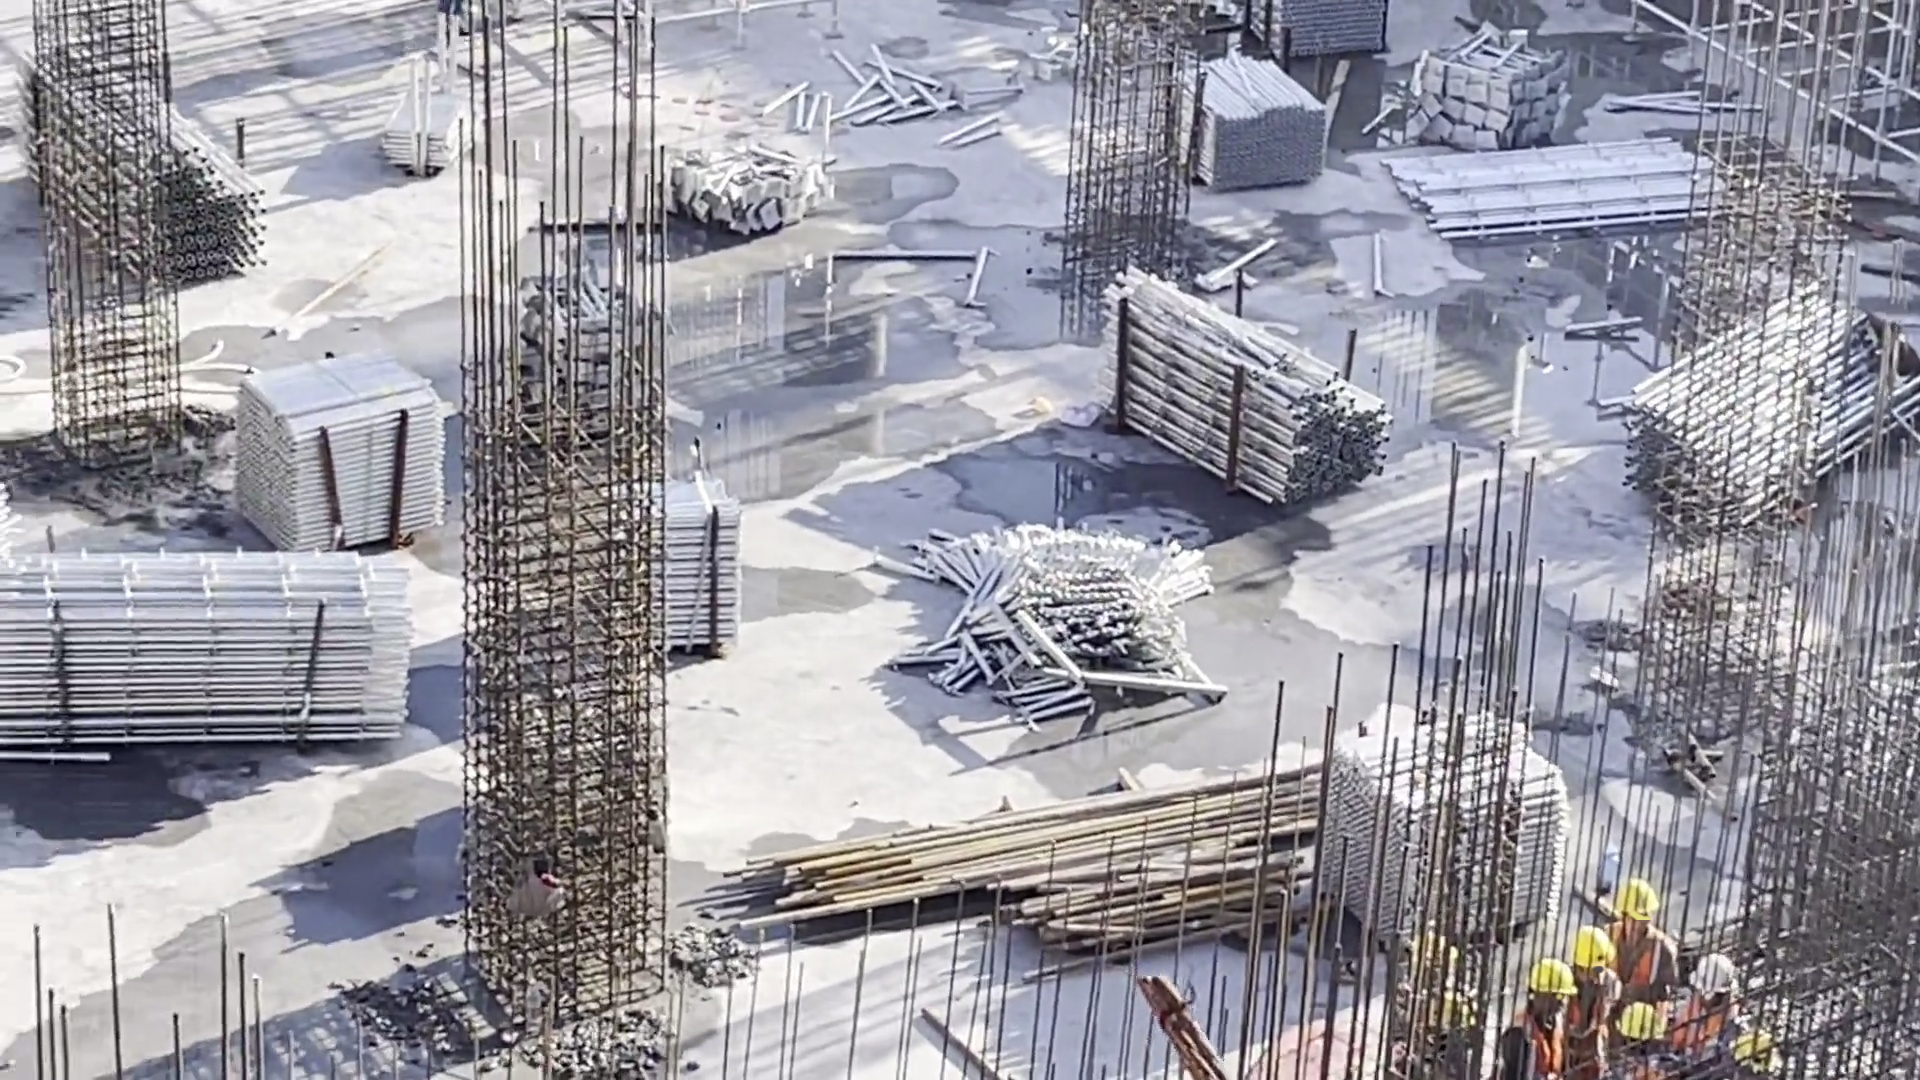helmet: (1685, 949, 1742, 1004), (1620, 877, 1657, 933), (1615, 1004, 1670, 1042), (1569, 932, 1615, 968), (1527, 962, 1579, 993)
person: (1589, 874, 1681, 1005), (1565, 909, 1625, 1080), (1492, 949, 1567, 1080), (1666, 945, 1738, 1063), (1600, 1003, 1670, 1080)
scaffold: (1, 576, 415, 745), (1128, 298, 1366, 513), (1657, 288, 1879, 517), (1, 63, 241, 271), (1316, 733, 1535, 949), (239, 361, 443, 539), (1420, 147, 1713, 251), (958, 532, 1150, 688), (592, 491, 749, 644), (1157, 61, 1333, 197), (1252, 1, 1409, 69), (385, 86, 458, 173)
vest: (1509, 1020, 1570, 1079), (1614, 941, 1670, 998), (1683, 1004, 1730, 1054), (1569, 977, 1606, 1035)
